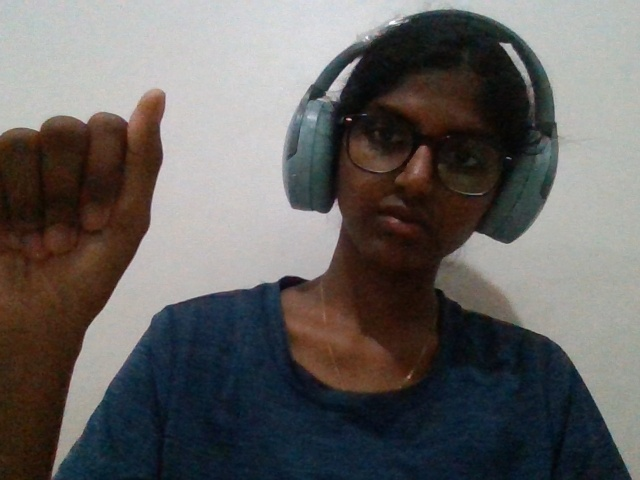A: (1, 56, 187, 422)
